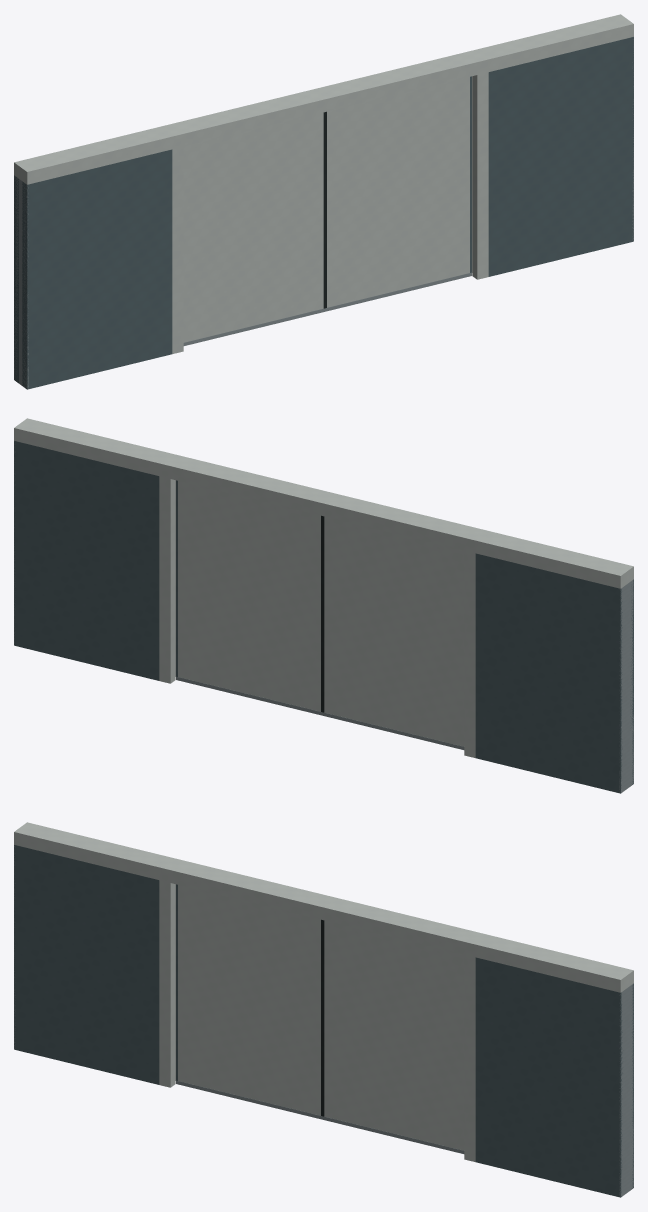
The model's file is AST-MED-G3-009.glb.
3 views of the same model, one above another, from view 1: azimuth 30°, elevation 25°; view 2: azimuth 150°, elevation 25°; view 3: azimuth 330°, elevation 25° (orthographic).
Parts seen in each view (by area): view 1: PocketLeftBack, PocketRightBack, RIGHT_Panel, LEFT_Panel, FullFrameHeader, FrameRightBack, FrameLeftBack, PocketLeftEnd, PocketLeftFront, RIGHT_Base, LEFT_Base; view 2: PocketLeftFront, PocketRightFront, RIGHT_Panel, LEFT_Panel, FullFrameHeader, FrameRightFront, PocketLeftEnd, FrameLeftFront, RIGHT_Base, LEFT_Base; view 3: PocketRightBack, PocketLeftBack, LEFT_Panel, RIGHT_Panel, FullFrameHeader, FrameLeftBack, PocketRightEnd, FrameRightBack, LEFT_Base, RIGHT_Base.
Boxes of the visible parts, x1,y1,x2,y2 form: PocketLeftBack: [22, 149, 172, 389]; PocketRightBack: [488, 37, 633, 276]; RIGHT_Panel: [327, 77, 469, 307]; LEFT_Panel: [183, 112, 323, 342]; FullFrameHeader: [14, 14, 633, 184]; FrameRightBack: [472, 56, 488, 279]; FrameLeftBack: [168, 130, 183, 353]; PocketLeftEnd: [14, 176, 28, 389]; PocketLeftFront: [14, 175, 18, 383]; RIGHT_Base: [327, 272, 471, 311]; LEFT_Base: [183, 308, 326, 345]; PocketLeftFront: [475, 553, 622, 793]; PocketRightFront: [14, 441, 159, 680]; RIGHT_Panel: [178, 481, 320, 711]; LEFT_Panel: [324, 516, 464, 746]; FullFrameHeader: [14, 418, 633, 588]; FrameRightFront: [159, 460, 175, 683]; PocketLeftEnd: [619, 580, 633, 793]; FrameLeftFront: [464, 534, 479, 757]; RIGHT_Base: [176, 676, 320, 715]; LEFT_Base: [321, 712, 464, 749]; PocketRightBack: [475, 957, 622, 1197]; PocketLeftBack: [14, 845, 159, 1084]; LEFT_Panel: [178, 885, 320, 1115]; RIGHT_Panel: [324, 920, 464, 1150]; FullFrameHeader: [14, 822, 633, 992]; FrameLeftBack: [159, 864, 175, 1087]; PocketRightEnd: [619, 983, 633, 1197]; FrameRightBack: [464, 938, 479, 1161]; LEFT_Base: [176, 1080, 320, 1119]; RIGHT_Base: [321, 1116, 464, 1153].
Bounding box in the file's own units: 7.44 × 2.55 × 0.28.
4 materials, 4 textured.
